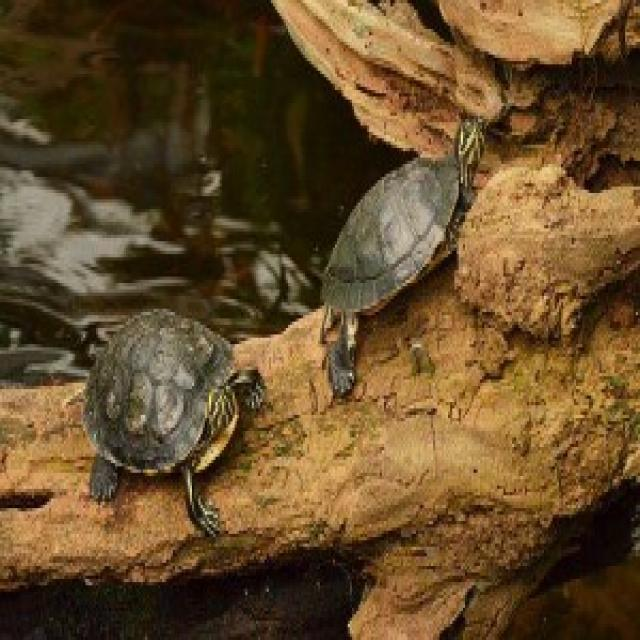Sea turtle: (315, 94, 520, 397), (75, 314, 264, 590)
